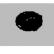correct: (14, 10, 44, 35)
